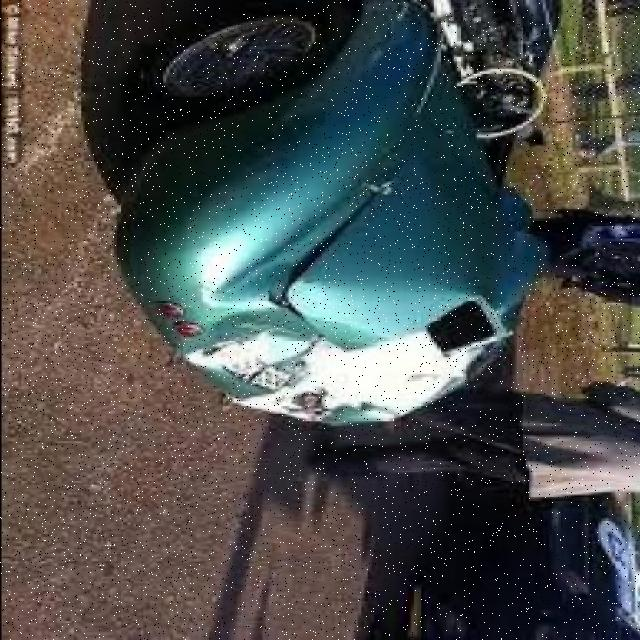damage: (174, 226, 471, 429)
